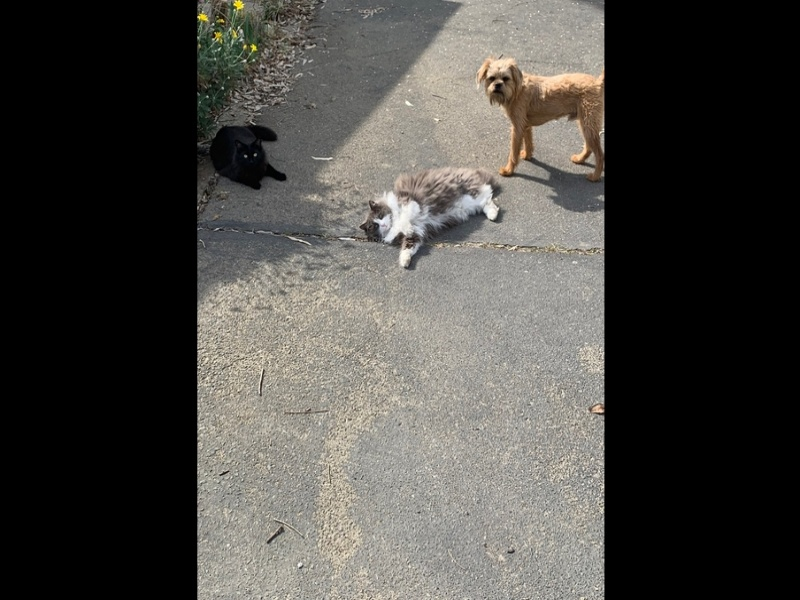cat: (360, 165, 507, 271), (210, 119, 289, 196)
dog: (477, 55, 604, 185)
